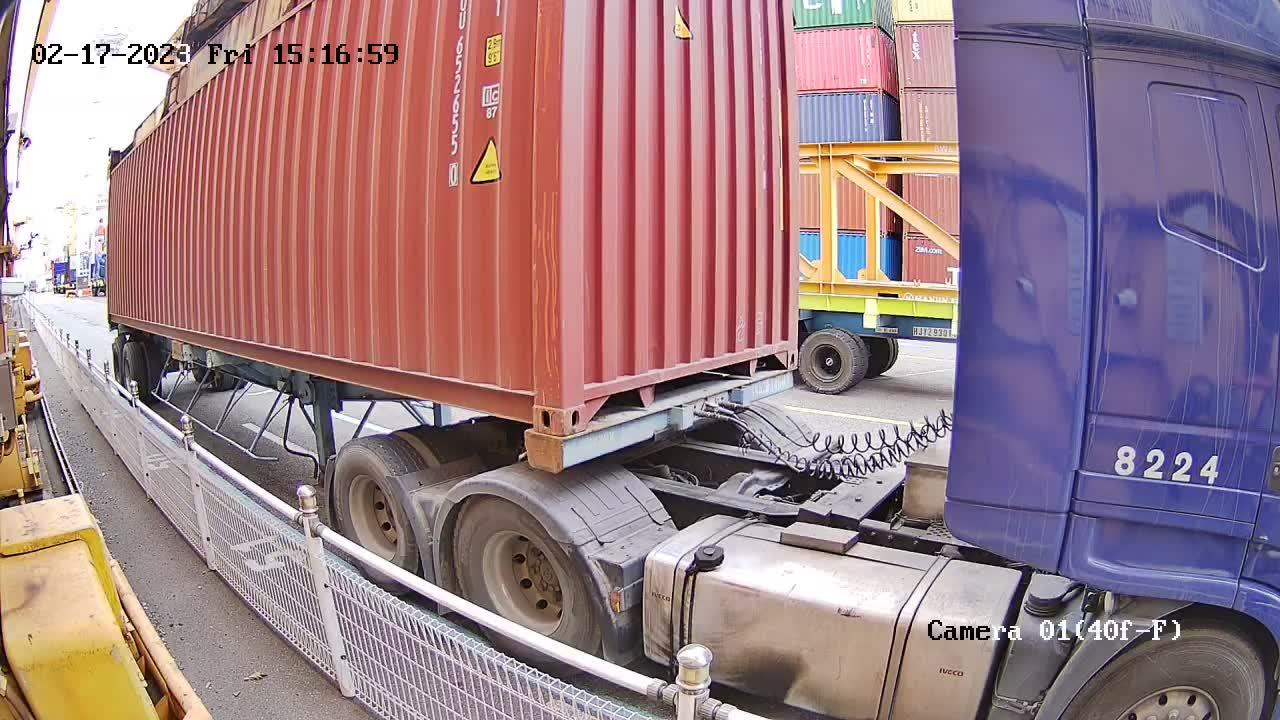Chassis: (528, 367, 797, 470)
Cone: (523, 433, 561, 474)
Hole_L: (564, 370, 608, 434)
Hole_R: (506, 363, 562, 434), (763, 320, 799, 373)
Tire: (456, 498, 600, 652), (333, 445, 415, 566)
